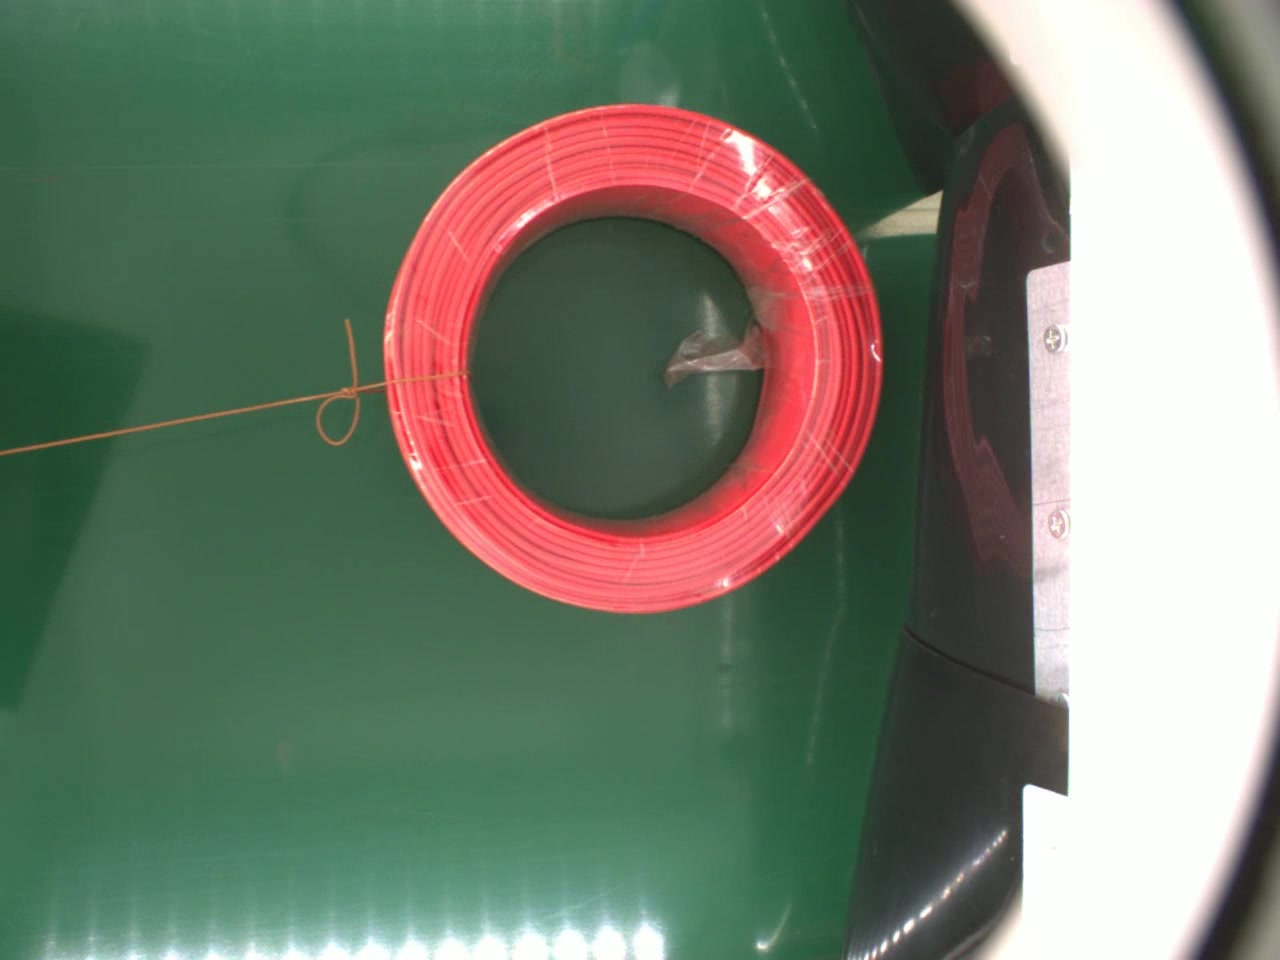red: (376, 97, 901, 623)
